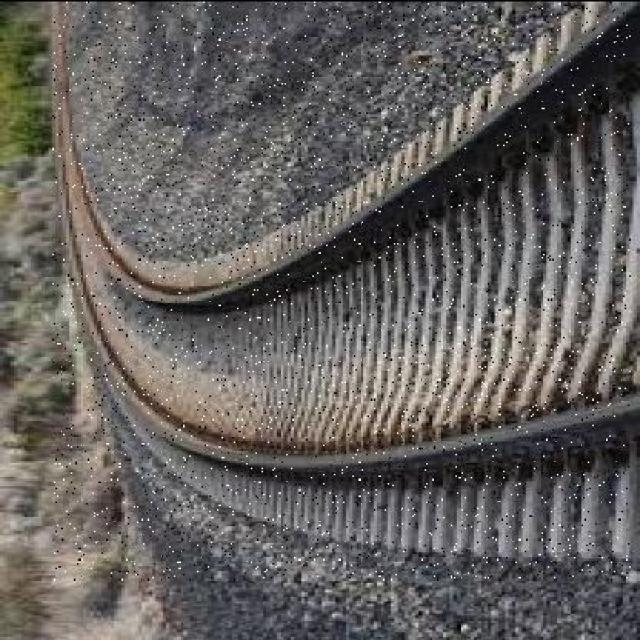rail: (53, 0, 631, 578)
